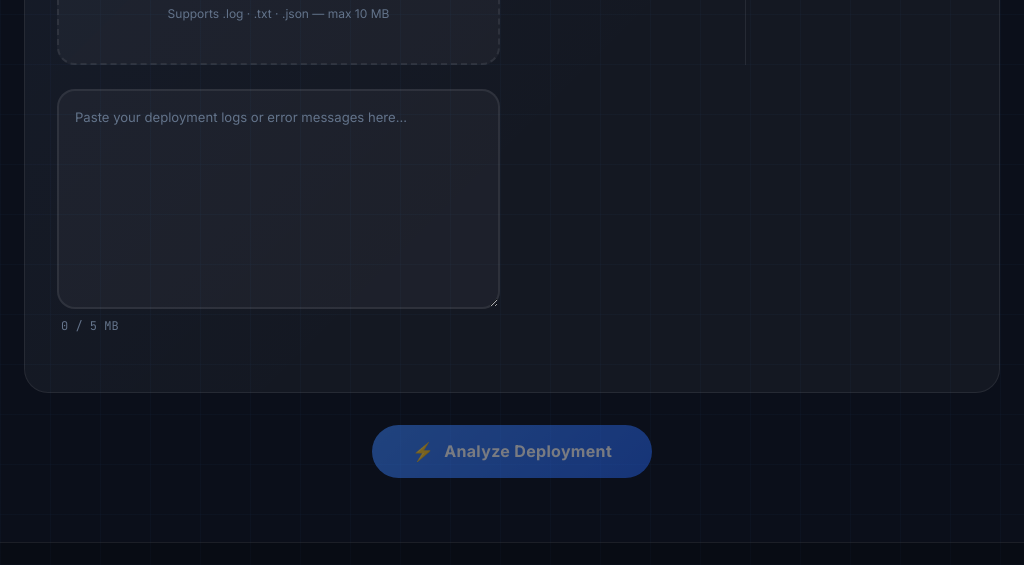
Test: App - API error › shows error message when API throws
(page scrolled)
Type "log" into the text box named "deployment log content" at (278, 199), box [57, 89, 500, 309]
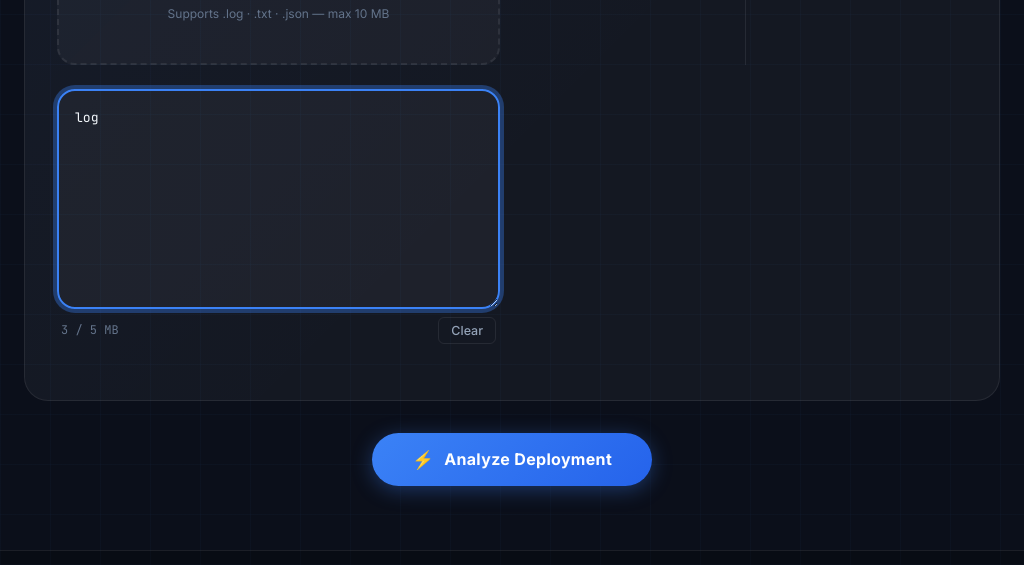
Click the button "⚡ Analyze Deployment" at (512, 459), box [372, 433, 652, 486]
(page scrolled)
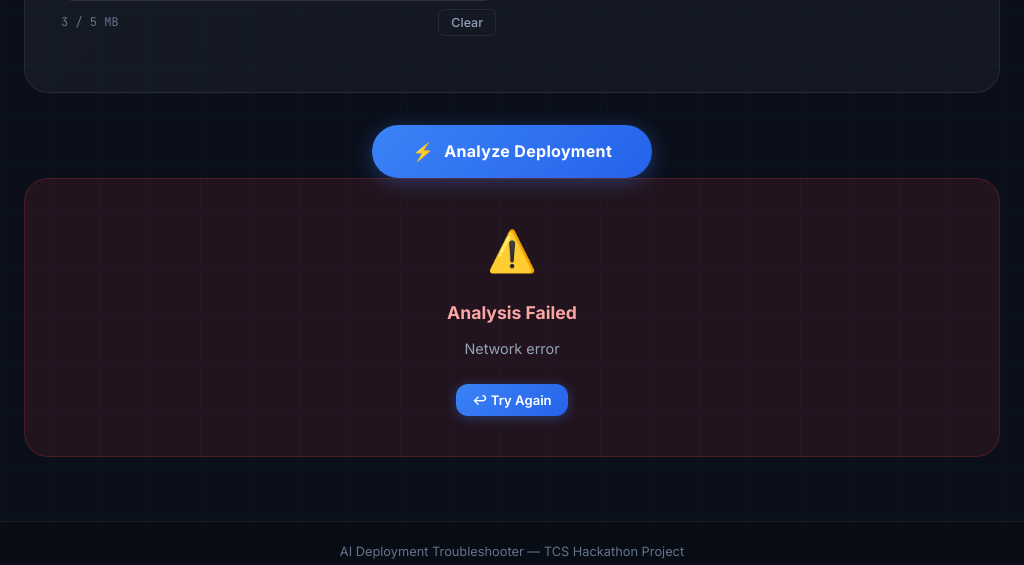
Expected: the message "⚠️ Analysis Failed Network error ↩ Try Again" is shown, [24, 178, 1000, 457]
Expected: the text "Network error" is shown, [464, 340, 560, 357]
